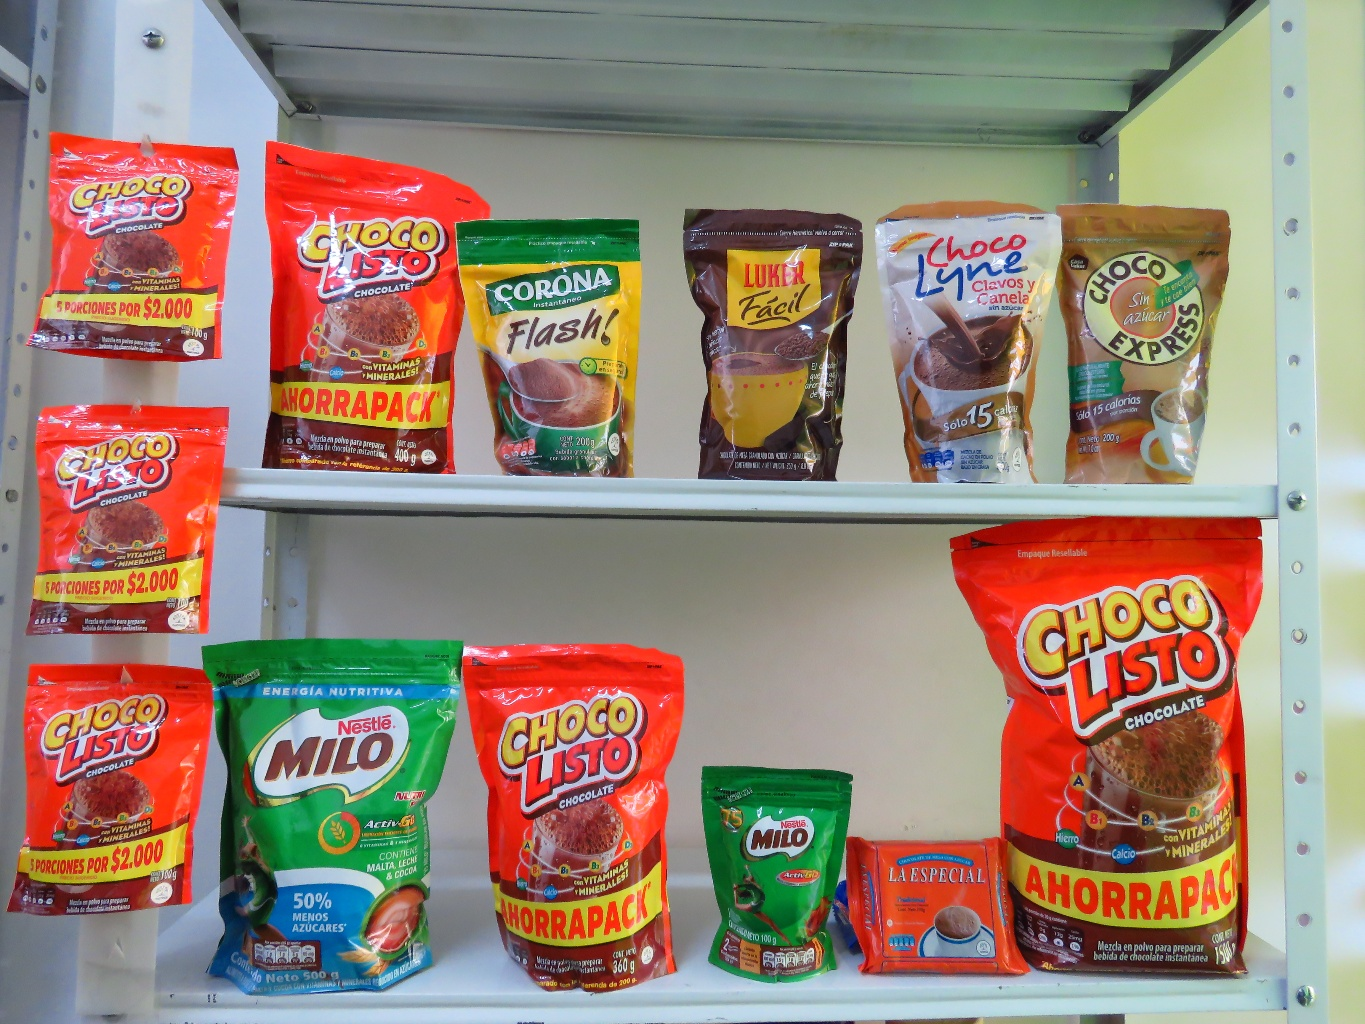COL0170103DYP1,500: (943, 515, 1259, 976)
COL0170103DYP10000: (40, 129, 229, 366)
COL0170103DYP36000: (468, 632, 682, 991)
COL0170103DYP40000: (251, 140, 498, 471)
COL0170203DYP10000: (687, 760, 861, 971)
COL0170205DYP50000: (191, 629, 473, 1001)
